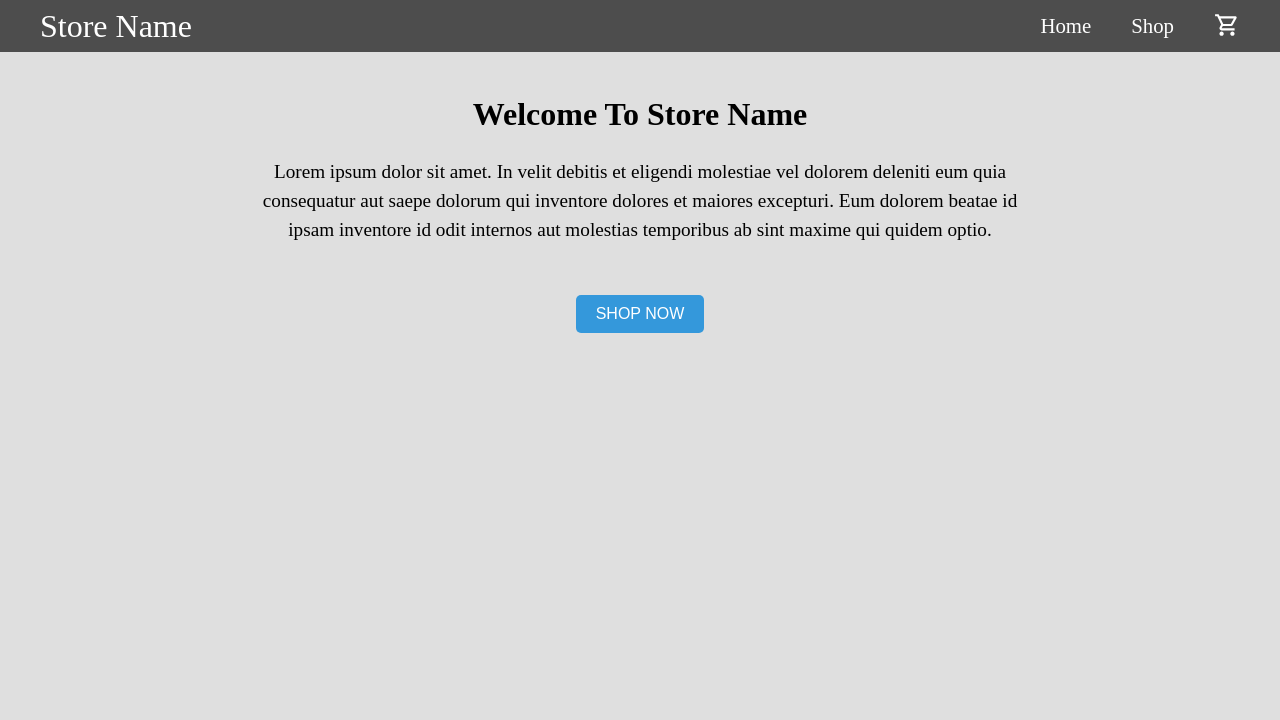
Test: App Component › navigates to the shopping cart page
The image size is (1280, 720).
Click the link named "Shopping Cart" at (1227, 26), box [1214, 12, 1240, 40]
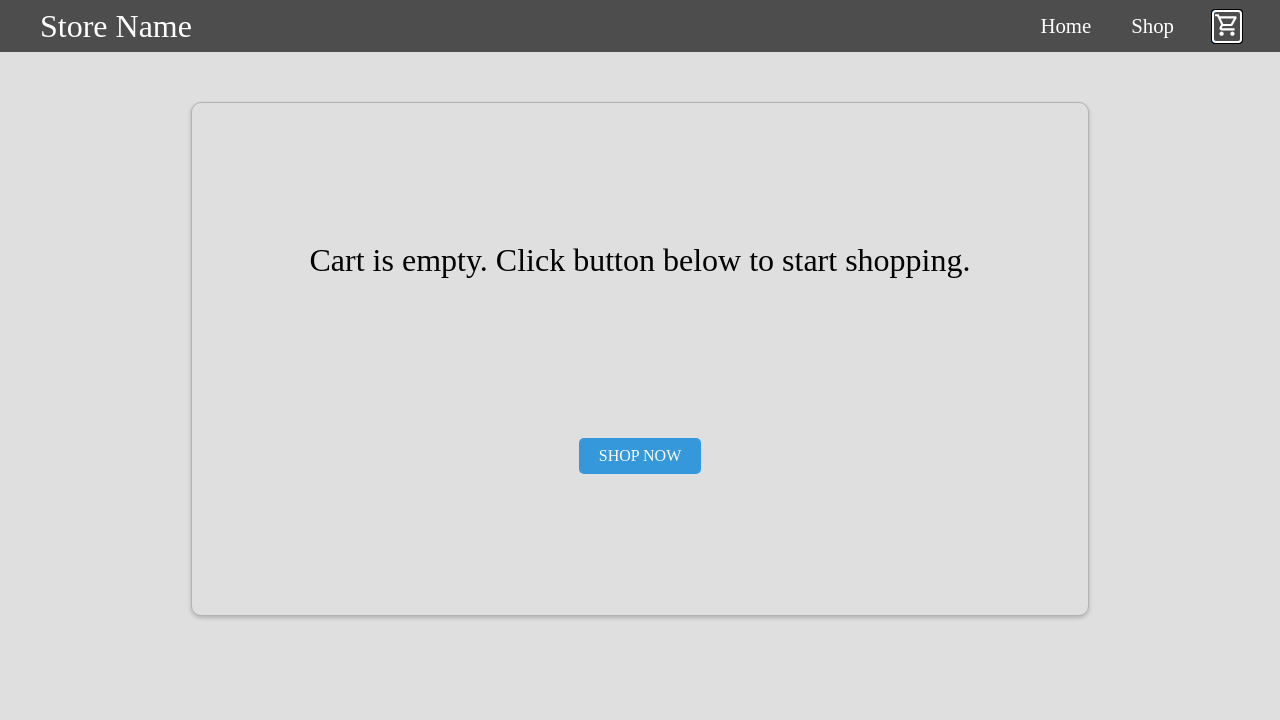
Expected: the text "Cart is empty. Click button below to start shopping." is shown, [300, 234, 980, 286]
